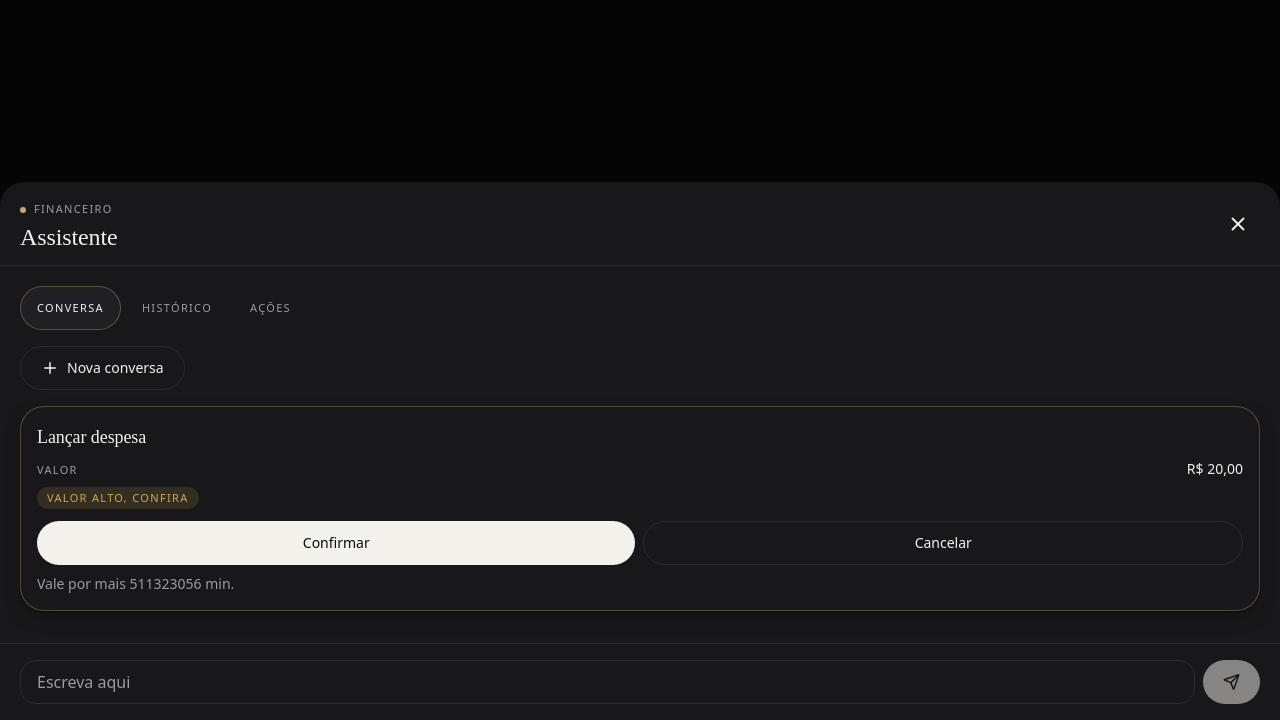
Test: AssistantSheet › confirm sends the pending id and invalidates after success
The width and height of the screenshot is (1280, 720).
Click the button "Confirmar" at (336,543), box [37,521,636,565]
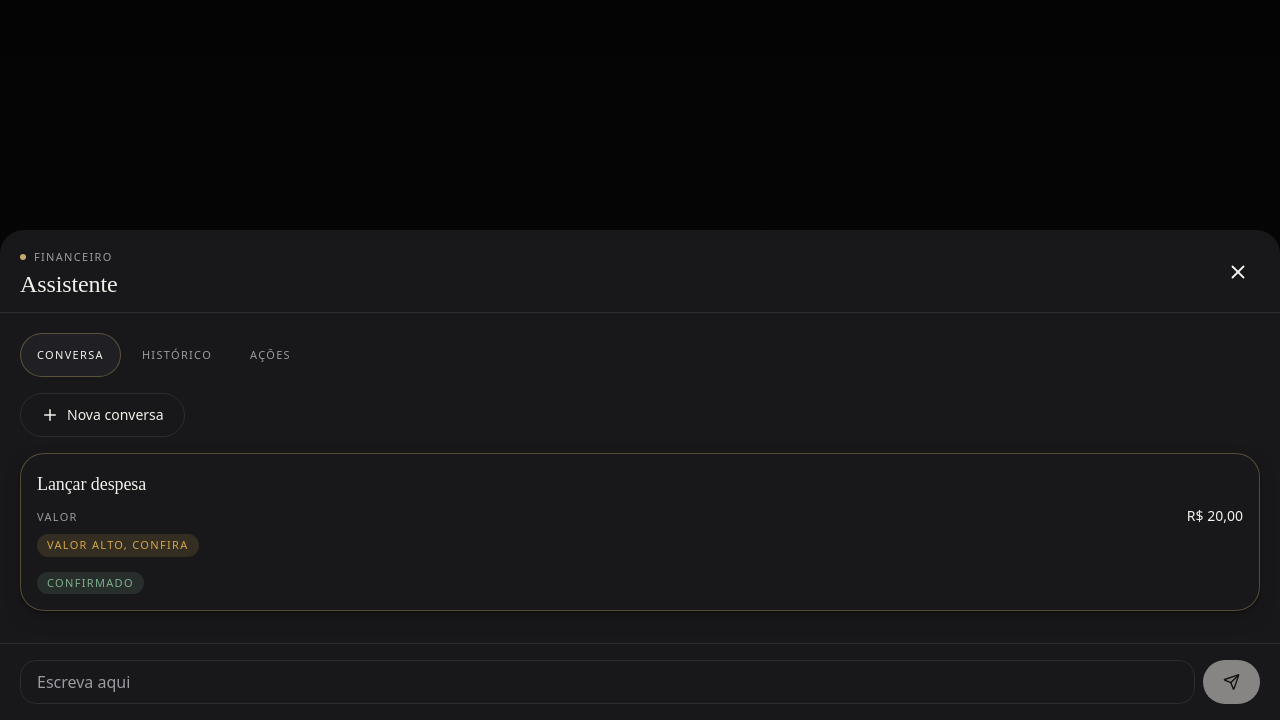
expect the text "Confirmado" is shown: met, box [37,572,144,594]
